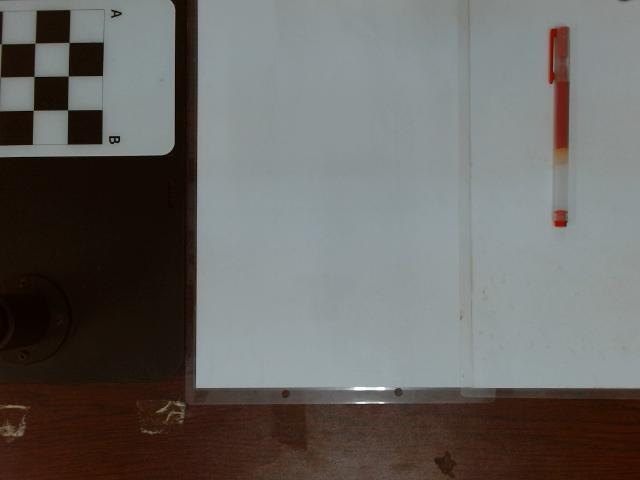PEN: (549, 26, 569, 227)
